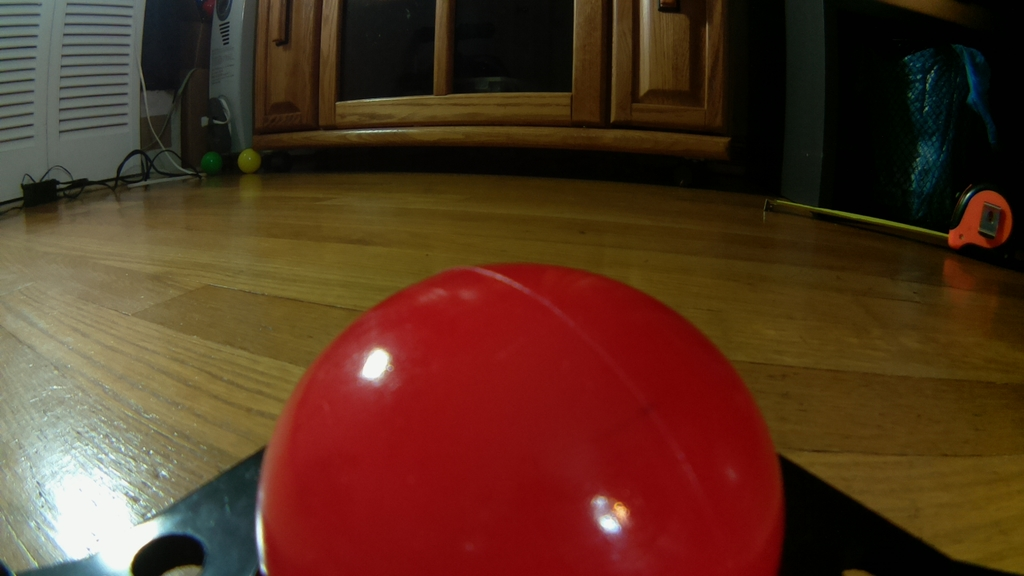ball: (236, 148, 264, 172)
